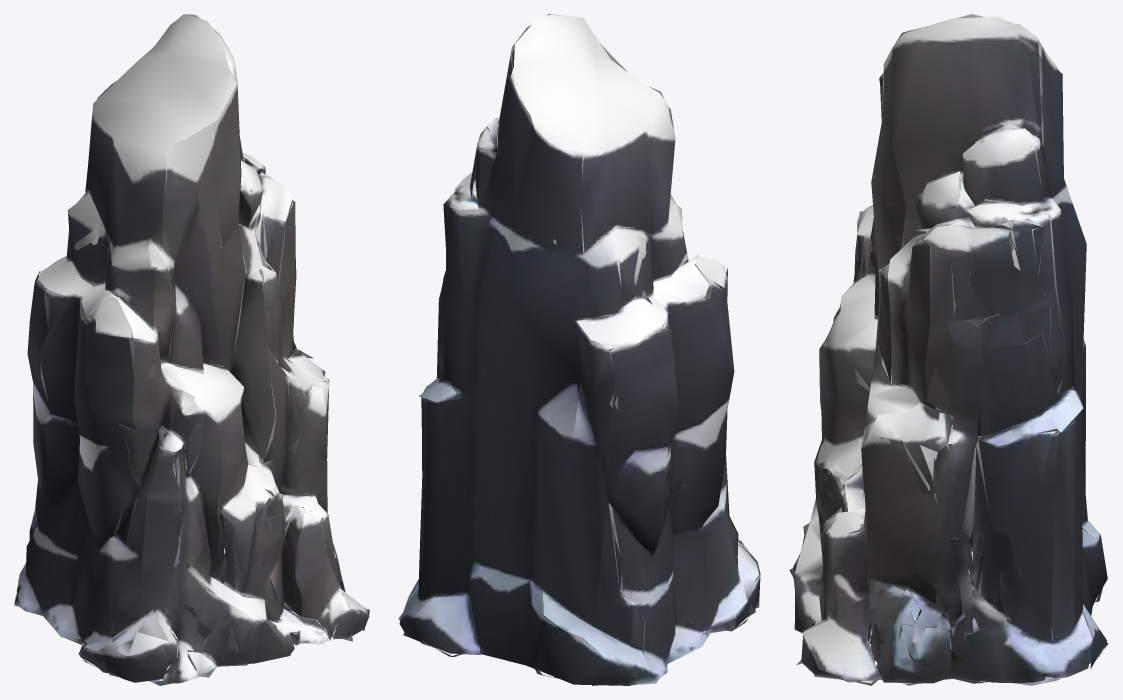
Rendered from cliff_gen_a.glb.
The picture shows the model from 3 angles, left to right: view 1: azimuth 30°, elevation 25°; view 2: azimuth 150°, elevation 25°; view 3: azimuth 270°, elevation 25°; orthographic projection. The views are drawn at different scales.
Parts seen in each view (by area): view 1: cliff_gen; view 2: cliff_gen; view 3: cliff_gen.
Part boxes in pixels (x1,y1,x2,y2): cliff_gen: (14,14,369,685); cliff_gen: (398,14,760,685); cliff_gen: (789,14,1108,685).
Bounding box in the file's own units: 5.83 × 12.1 × 5.63.
1 material, 1 textured.
